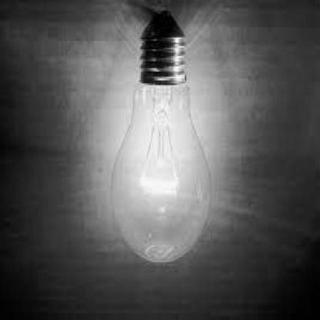other: (107, 93, 211, 235)
